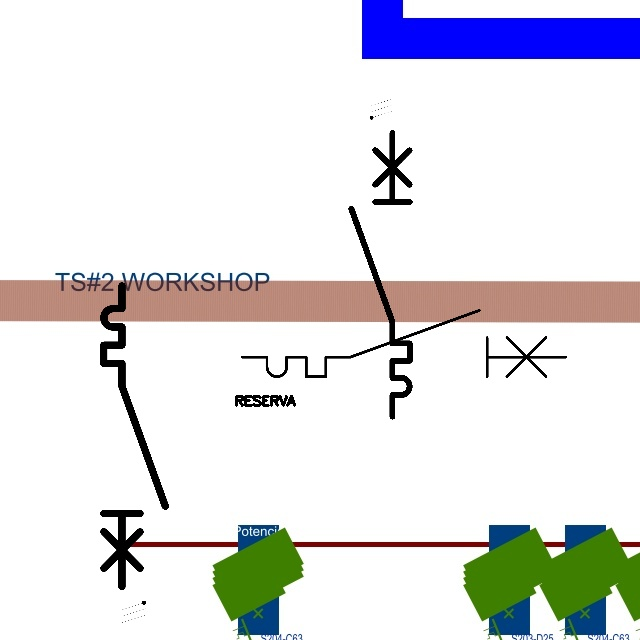interruptor_termomagnetico: (234, 302, 574, 385), (96, 278, 173, 594), (344, 125, 417, 423)
